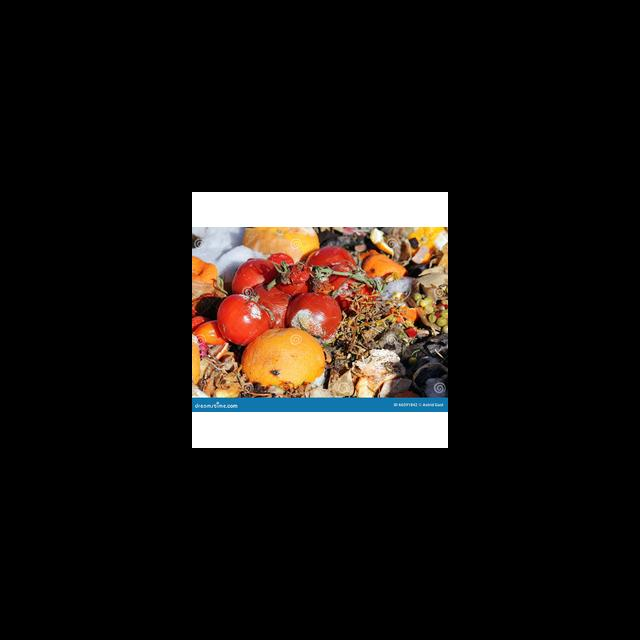food_waste: (192, 227, 447, 398)
